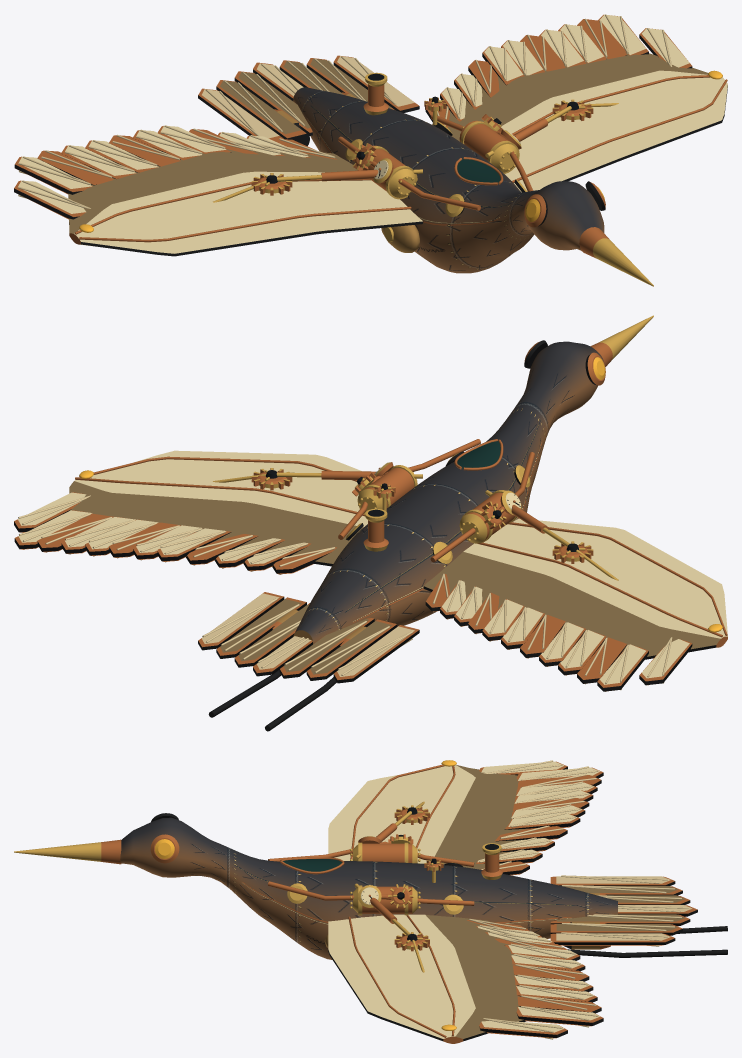
3 views of the same model, one above another, from view 1: azimuth 30°, elevation 25°; view 2: azimuth 150°, elevation 25°; view 3: azimuth 270°, elevation 25° (orthographic). The views are drawn at different scales.
Visible parts, largest first — view 1: egret_hull; view 2: egret_hull; view 3: egret_hull.
Boxes of the visible parts, x1,y1,x2,y2 form: egret_hull: (14, 14, 727, 286); egret_hull: (14, 315, 727, 731); egret_hull: (14, 760, 727, 1043).
Size of the model in its own units: 57.92 by 13.44 by 64.
Materials: 1 (1 with a texture image).
